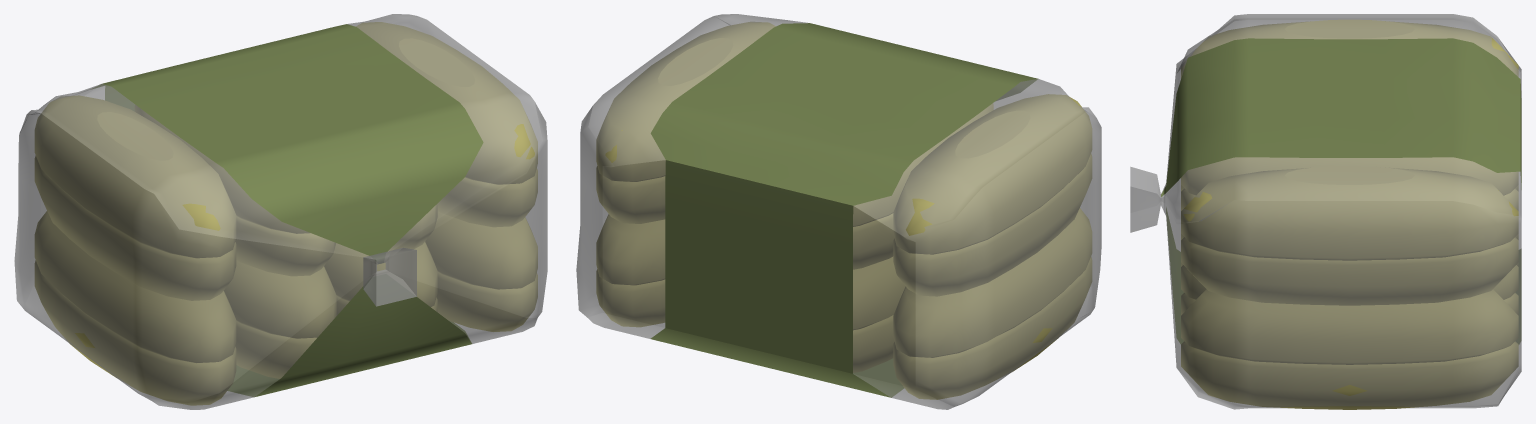
Rendered from hotdog_buns.fbx.
3 views of the same model, side by side, from view 1: azimuth 30°, elevation 25°; view 2: azimuth 150°, elevation 25°; view 3: azimuth 270°, elevation 25° (orthographic).
Parts seen in each view (by area): view 1: pCube1, pCylinder27, pCylinder28, pCylinder31, pCylinder22, pCylinder21, pCylinder30, pCylinder24, pCylinder34, pCylinder25, pCylinder32, pCylinder29 (+3 smaller); view 2: pCube1, pCylinder27, pCylinder28, pCylinder31, pCylinder22, pCylinder21, pCylinder30, pCylinder34, pCylinder32, pCylinder24, pCylinder25, pCylinder23 (+1 smaller); view 3: pCube1, pCylinder31, pCylinder30, pCylinder32, pCylinder34, pCylinder27, pCylinder33, pCylinder29, pCylinder35, pCylinder36.
Boxes of the visible parts, x1=… form: pCube1: x1=14, y1=14, x2=547, y2=409; pCylinder27: x1=34, y1=95, x2=236, y2=258; pCylinder28: x1=34, y1=211, x2=236, y2=362; pCylinder31: x1=356, y1=22, x2=537, y2=184; pCylinder22: x1=34, y1=155, x2=236, y2=300; pCylinder21: x1=34, y1=260, x2=236, y2=405; pCylinder30: x1=425, y1=211, x2=537, y2=289; pCylinder24: x1=224, y1=260, x2=336, y2=338; pCylinder34: x1=437, y1=272, x2=537, y2=331; pCylinder25: x1=235, y1=216, x2=335, y2=276; pCylinder32: x1=437, y1=168, x2=537, y2=227; pCylinder29: x1=324, y1=242, x2=437, y2=306; pCube1: x1=576, y1=14, x2=1101, y2=409; pCylinder27: x1=893, y1=94, x2=1092, y2=254; pCylinder28: x1=893, y1=208, x2=1092, y2=357; pCylinder31: x1=596, y1=22, x2=775, y2=181; pCylinder22: x1=893, y1=153, x2=1092, y2=296; pCylinder21: x1=893, y1=257, x2=1092, y2=399; pCylinder30: x1=596, y1=214, x2=665, y2=285; pCylinder34: x1=596, y1=269, x2=665, y2=327; pCylinder32: x1=596, y1=166, x2=665, y2=223; pCylinder24: x1=853, y1=257, x2=905, y2=330; pCylinder25: x1=853, y1=213, x2=894, y2=269; pCylinder23: x1=853, y1=315, x2=894, y2=372; pCube1: x1=1130, y1=14, x2=1521, y2=409; pCylinder31: x1=1181, y1=166, x2=1518, y2=260; pCylinder30: x1=1181, y1=289, x2=1518, y2=364; pCylinder32: x1=1181, y1=237, x2=1518, y2=305; pCylinder34: x1=1181, y1=341, x2=1518, y2=409; pCylinder27: x1=1181, y1=19, x2=1518, y2=78; pCylinder33: x1=1181, y1=157, x2=1518, y2=195; pCylinder29: x1=1181, y1=265, x2=1518, y2=299; pCylinder35: x1=1181, y1=293, x2=1518, y2=315; pCylinder36: x1=1181, y1=188, x2=1518, y2=210.
Bounding box in the file's own units: 2.66 × 1.39 × 2.21.
